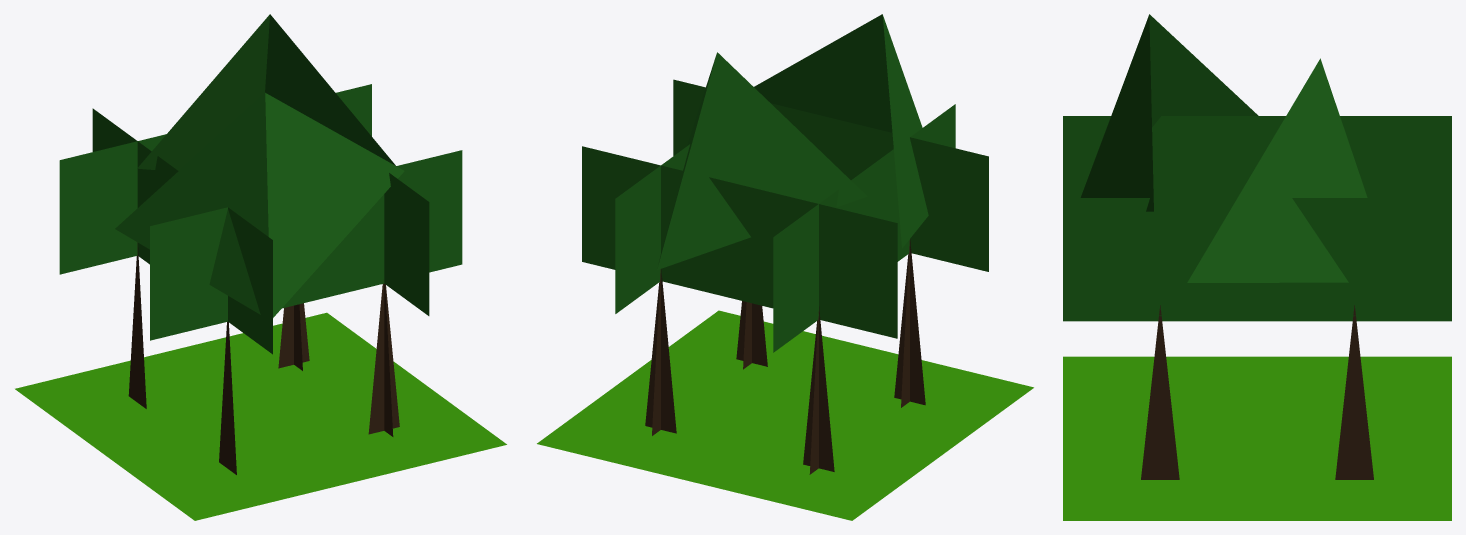
The model's file is full.obj.
The picture shows the model from 3 angles, left to right: view 1: azimuth 30°, elevation 25°; view 2: azimuth 150°, elevation 25°; view 3: azimuth 270°, elevation 25°; orthographic projection. The views are drawn at different scales.
Visible parts, largest first — view 1: Leaves, Cylinder, Plane.001, Plane, Cylinder.001, Tree; view 2: Leaves, Plane, Plane.001, Cylinder.001, Cylinder, Tree; view 3: Leaves, Plane, Plane.001, Cylinder.001, Cylinder, Tree.
Part boxes in pixels (left/top/right/bottom): Leaves: left=59, top=84, right=462, bottom=354; Cylinder: left=115, top=92, right=404, bottom=317; Plane.001: left=15, top=389, right=506, bottom=520; Plane: left=15, top=312, right=506, bottom=444; Cylinder.001: left=137, top=14, right=395, bottom=170; Tree: left=128, top=242, right=399, bottom=474; Leaves: left=582, top=79, right=988, bottom=352; Plane: left=537, top=310, right=851, bottom=520; Plane.001: left=719, top=310, right=1033, bottom=520; Cylinder.001: left=657, top=52, right=867, bottom=269; Cylinder: left=754, top=14, right=928, bottom=248; Tree: left=645, top=239, right=925, bottom=474; Leaves: left=1063, top=116, right=1451, bottom=321; Plane: left=1064, top=357, right=1451, bottom=520; Plane.001: left=1063, top=356, right=1451, bottom=520; Cylinder.001: left=1187, top=58, right=1367, bottom=282; Cylinder: left=1080, top=14, right=1258, bottom=211; Tree: left=1141, top=305, right=1373, bottom=479.
Bounding box in the file's own units: 2 × 2.28 × 2.
